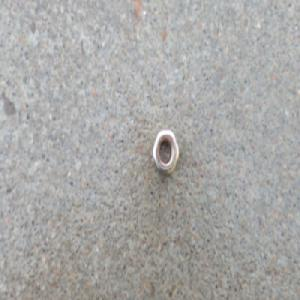Nut: (150, 127, 179, 175)
